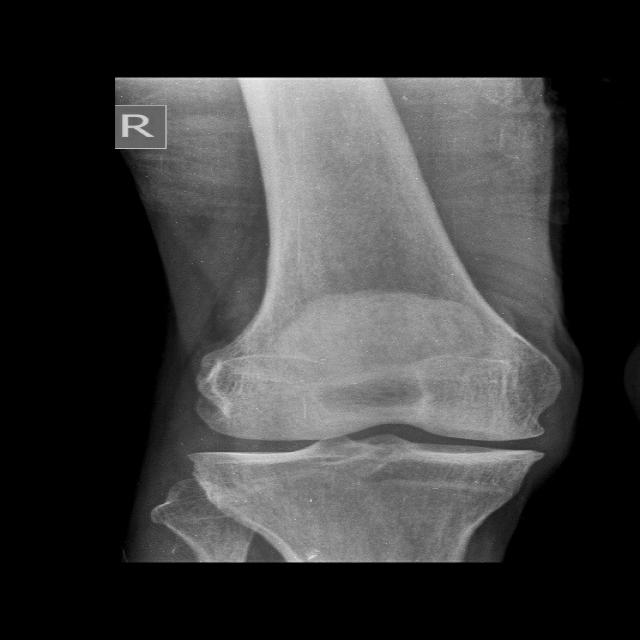osteo: (176, 340, 560, 523)
